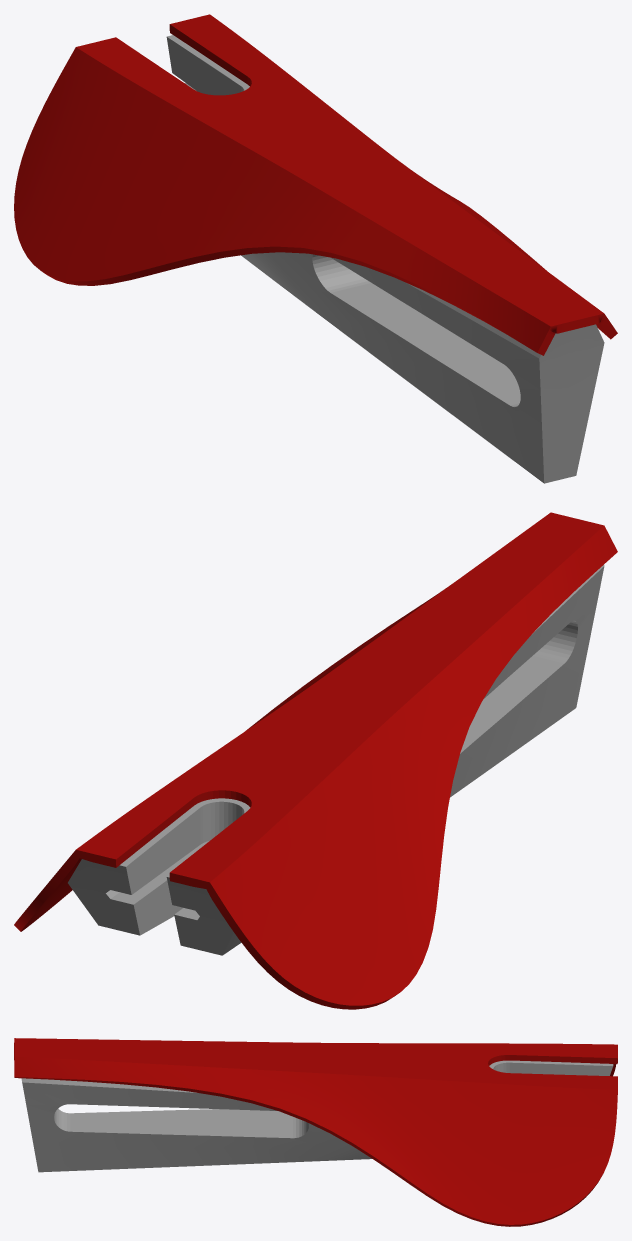
The model's file is Ship v3.obj.
3 views of the same model, one above another, from view 1: azimuth 30°, elevation 25°; view 2: azimuth 150°, elevation 25°; view 3: azimuth 270°, elevation 25° (orthographic). The views are drawn at different scales.
Parts seen in each view (by area): view 1: Hull_Cube.002, Body_Cube.001; view 2: Hull_Cube.002, Body_Cube.001; view 3: Hull_Cube.002, Body_Cube.001.
Part boxes in pixels (x1,y1,x2,y2): Hull_Cube.002: (14, 14, 617, 355); Body_Cube.001: (166, 35, 604, 483); Hull_Cube.002: (14, 512, 617, 1009); Body_Cube.001: (68, 565, 604, 955); Hull_Cube.002: (14, 1038, 617, 1226); Body_Cube.001: (21, 1060, 613, 1172).
Size of the model in its own units: 2.18 by 1.01 by 4.57.
